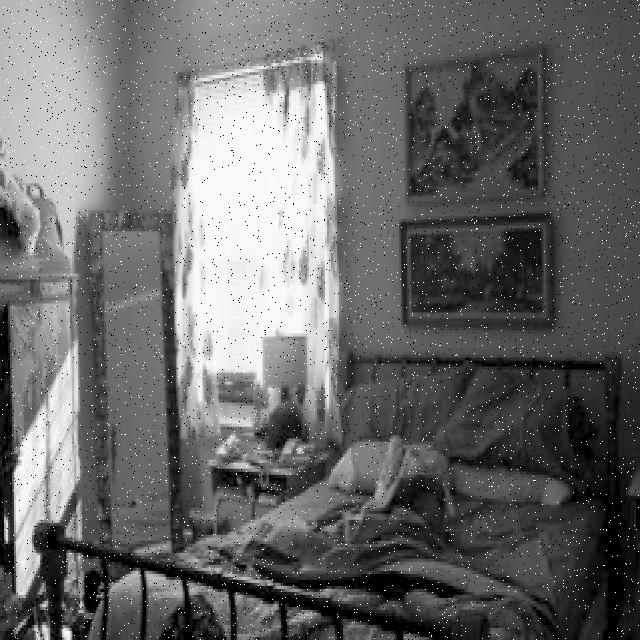bed: (102, 356, 620, 640)
